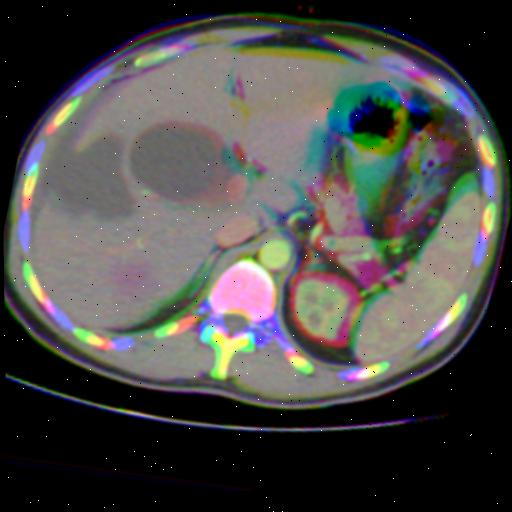Cyst: (130, 125, 229, 203), (49, 138, 131, 219)
